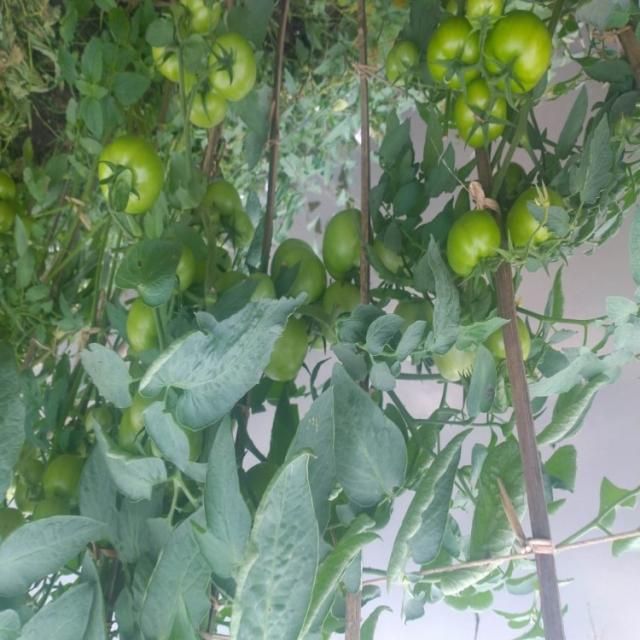tomato: (472, 10, 577, 113), (87, 128, 179, 229), (499, 177, 575, 266), (317, 193, 381, 291), (418, 5, 487, 95), (196, 159, 257, 260), (442, 89, 519, 164), (442, 208, 509, 293), (201, 34, 269, 105), (257, 309, 317, 389), (102, 301, 172, 368), (265, 232, 326, 301), (25, 444, 97, 501), (107, 386, 163, 458), (387, 38, 447, 97), (149, 36, 206, 93), (177, 89, 235, 142), (385, 290, 436, 334), (433, 340, 476, 389), (489, 317, 524, 371), (455, 1, 506, 33), (177, 1, 225, 31)
